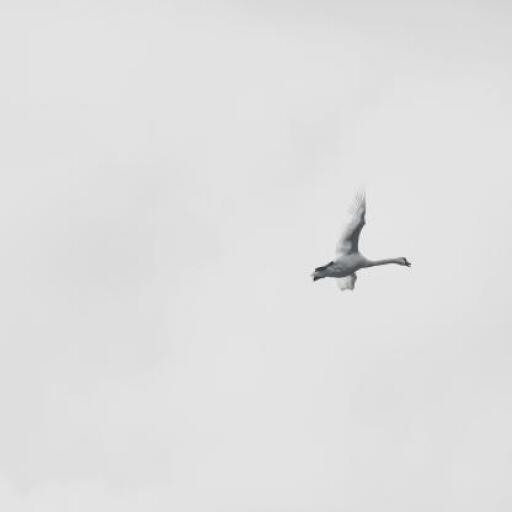bird: (311, 183, 411, 292)
